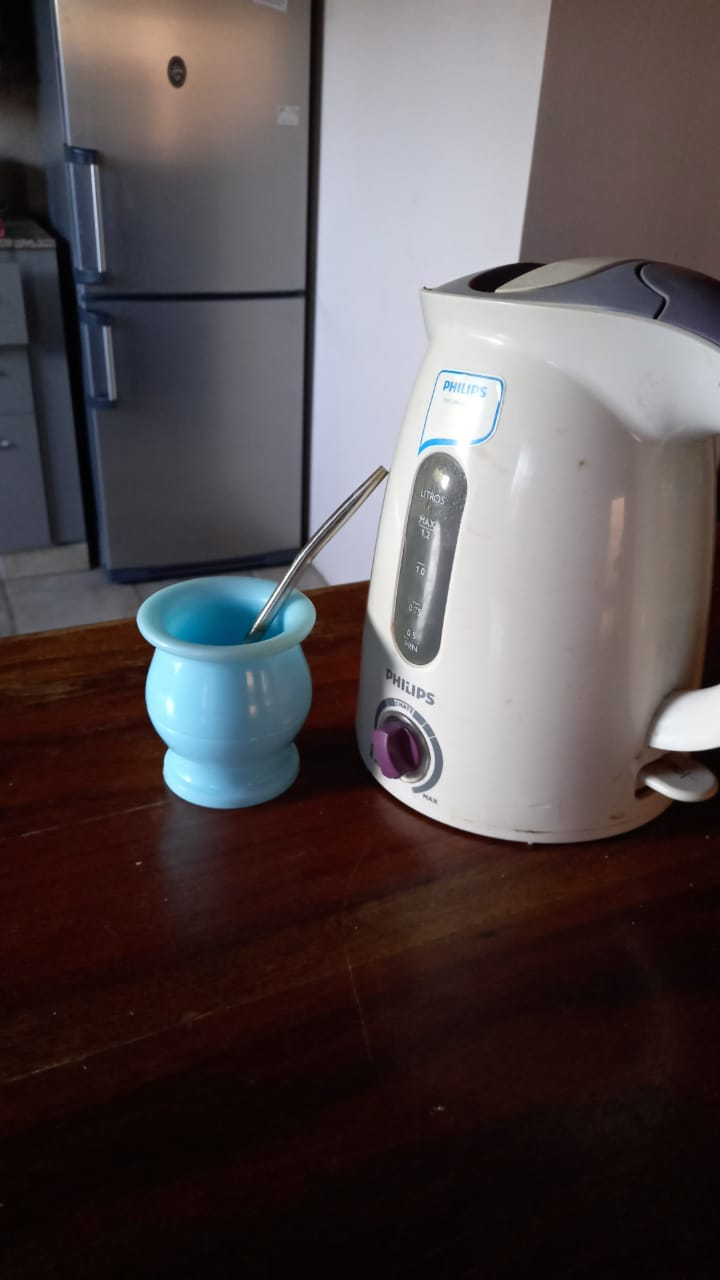mate: (137, 569, 315, 814)
